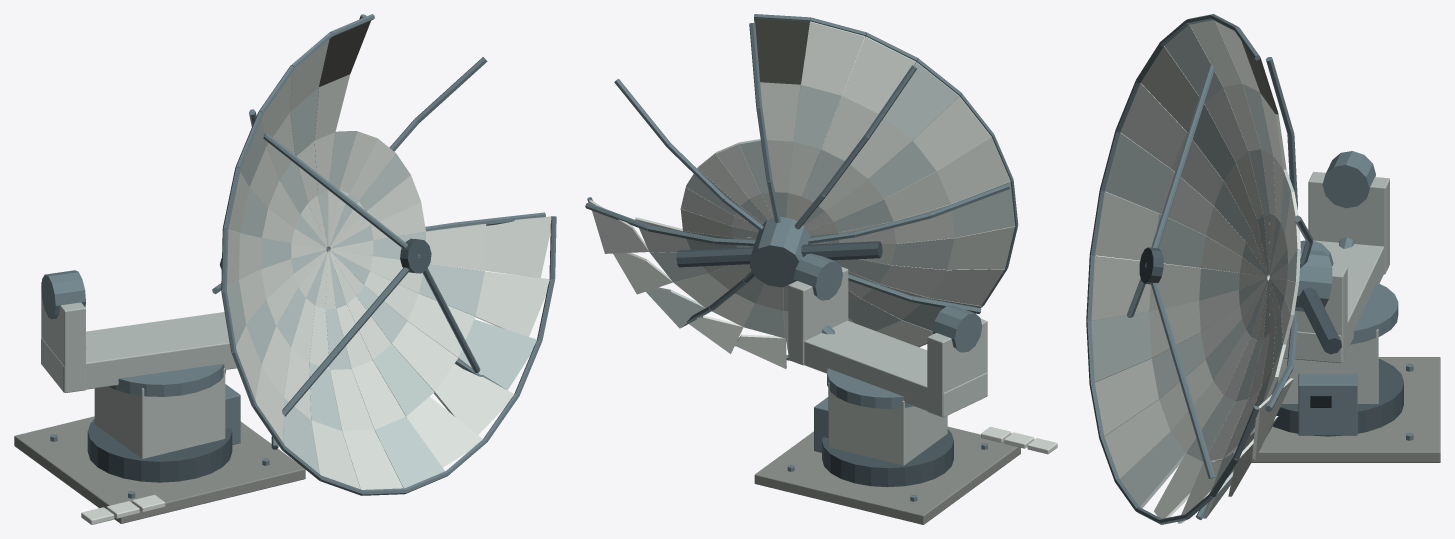
Rendered from skyward_low_d3.glb.
3 views of the same model, side by side, from view 1: azimuth 30°, elevation 25°; view 2: azimuth 150°, elevation 25°; view 3: azimuth 270°, elevation 25° (orthographic). The views are drawn at different scales.
Parts seen in each view (by area): view 1: Geometry_ELEVATION.003_Reflector / warm ceramic, Geometry_ELEVATION.003_Reflector / alternate panel, Geometry_ELEVATION.003_Structural frame / blue steel, Geometry_AZIMUTH.003_Ceramic armor / limestone, Concrete octagonal pad.003, Pedestal.003, Foundation bearing.003, Geometry_AZIMUTH.003_Structural frame / blue steel, Reflector panel.340, Geometry_ROOT.003_Reflector / warm ceramic, Geometry_ROOT.003_Structural frame / blue steel, Geometry_ELEVATION.003_Edge metal / graphite; view 2: Geometry_ELEVATION.003_Reflector / warm ceramic, Geometry_ELEVATION.003_Reflector / alternate panel, Geometry_AZIMUTH.003_Ceramic armor / limestone, Geometry_ELEVATION.003_Structural frame / blue steel, Concrete octagonal pad.003, Pedestal.003, Geometry_AZIMUTH.003_Structural frame / blue steel, Foundation bearing.003, Reflector panel.340, Geometry_ELEVATION.003_Edge metal / graphite, Geometry_ROOT.003_Reflector / warm ceramic, Geometry_ROOT.003_Structural frame / blue steel; view 3: Geometry_ELEVATION.003_Reflector / warm ceramic, Geometry_ELEVATION.003_Reflector / alternate panel, Geometry_ELEVATION.003_Structural frame / blue steel, Geometry_AZIMUTH.003_Ceramic armor / limestone, Concrete octagonal pad.003, Geometry_AZIMUTH.003_Structural frame / blue steel, Geometry_ROOT.003_Structural frame / blue steel, Pedestal.003, Foundation bearing.003, Geometry_ELEVATION.003_Edge metal / graphite, Reflector panel.340.
Boxes of the visible parts, x1,y1,x2,y2 form: Geometry_ELEVATION.003_Reflector / warm ceramic: [227, 39, 551, 489]; Geometry_ELEVATION.003_Reflector / alternate panel: [227, 88, 536, 488]; Geometry_ELEVATION.003_Structural frame / blue steel: [212, 14, 556, 495]; Geometry_AZIMUTH.003_Ceramic armor / limestone: [41, 282, 236, 392]; Concrete octagonal pad.003: [14, 416, 305, 523]; Pedestal.003: [94, 368, 225, 458]; Foundation bearing.003: [87, 419, 232, 482]; Geometry_AZIMUTH.003_Structural frame / blue steel: [41, 270, 225, 396]; Reflector panel.340: [319, 20, 370, 86]; Geometry_ROOT.003_Reflector / warm ceramic: [81, 495, 165, 524]; Geometry_ROOT.003_Structural frame / blue steel: [50, 384, 269, 498]; Geometry_ELEVATION.003_Edge metal / graphite: [220, 238, 431, 273]; Geometry_ELEVATION.003_Reflector / warm ceramic: [589, 21, 1014, 368]; Geometry_ELEVATION.003_Reflector / alternate panel: [646, 62, 1015, 352]; Geometry_AZIMUTH.003_Ceramic armor / limestone: [788, 266, 987, 417]; Geometry_ELEVATION.003_Structural frame / blue steel: [585, 14, 1018, 360]; Concrete octagonal pad.003: [754, 426, 1020, 524]; Pedestal.003: [828, 382, 947, 465]; Geometry_AZIMUTH.003_Structural frame / blue steel: [793, 253, 982, 408]; Foundation bearing.003: [822, 429, 953, 487]; Reflector panel.340: [754, 18, 809, 84]; Geometry_ELEVATION.003_Edge metal / graphite: [676, 241, 882, 267]; Geometry_ROOT.003_Reflector / warm ceramic: [981, 426, 1057, 454]; Geometry_ROOT.003_Structural frame / blue steel: [787, 397, 987, 501]; Geometry_ELEVATION.003_Reflector / warm ceramic: [1091, 20, 1300, 523]; Geometry_ELEVATION.003_Reflector / alternate panel: [1091, 25, 1300, 518]; Geometry_ELEVATION.003_Structural frame / blue steel: [1086, 14, 1332, 524]; Geometry_AZIMUTH.003_Ceramic armor / limestone: [1283, 172, 1389, 363]; Concrete octagonal pad.003: [1215, 357, 1440, 462]; Geometry_AZIMUTH.003_Structural frame / blue steel: [1300, 151, 1398, 344]; Geometry_ROOT.003_Structural frame / blue steel: [1249, 363, 1413, 440]; Pedestal.003: [1277, 329, 1378, 403]; Foundation bearing.003: [1271, 359, 1403, 436]; Geometry_ELEVATION.003_Edge metal / graphite: [1139, 247, 1341, 354]; Reflector panel.340: [1241, 40, 1278, 114].
Bounding box in the file's own units: 21.16 × 17.8 × 12.57.
